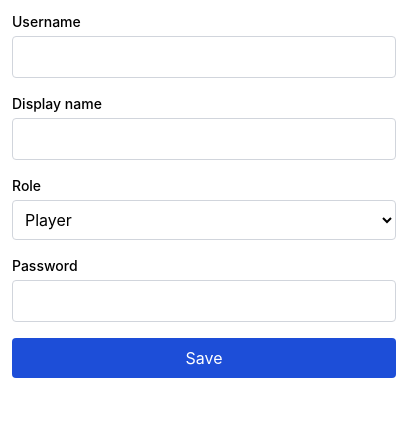
Test: MemberForm › rejects a create submission with a password shorter than 8 characters
Type "bsmith" into the field labelled "Username".
click(204, 57); type("bsmith")  # box [12, 36, 396, 78]
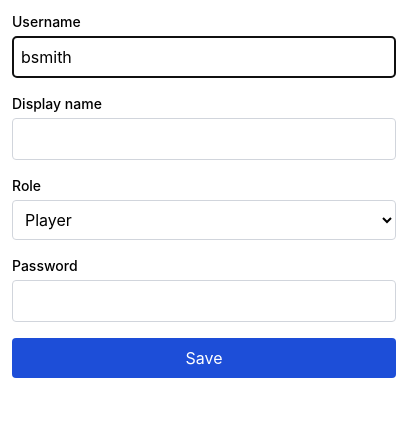
Type "Bob Smith" into the field labelled "Display name".
click(204, 139); type("Bob Smith")  # box [12, 118, 396, 160]
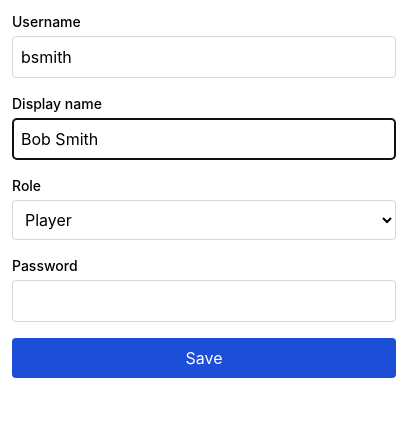
Type "short" into the password field labelled "Password".
click(204, 301); type("short")  # box [12, 280, 396, 322]
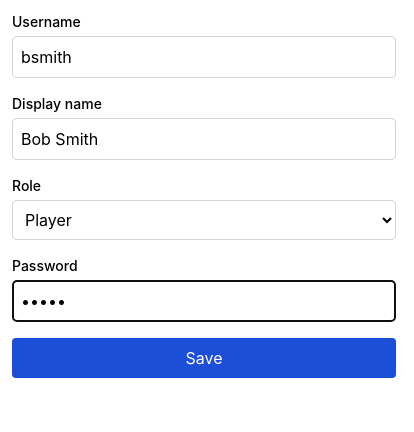
Click the button "Save".
click(204, 358)  # box [12, 338, 396, 378]
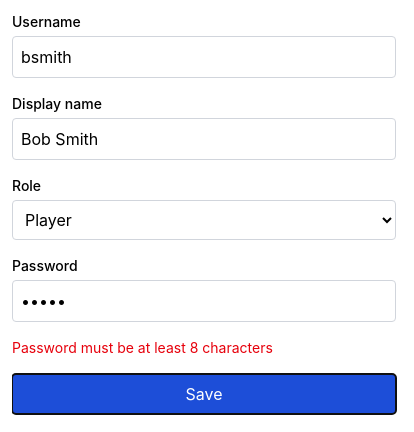
Expected: the message shows "at least 8 characters", [12, 339, 273, 356]
